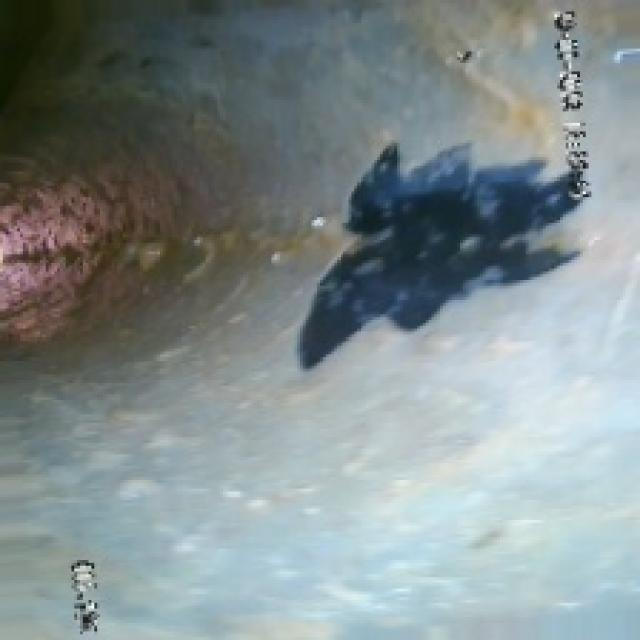pipe_surface_damage: (291, 132, 580, 372)
